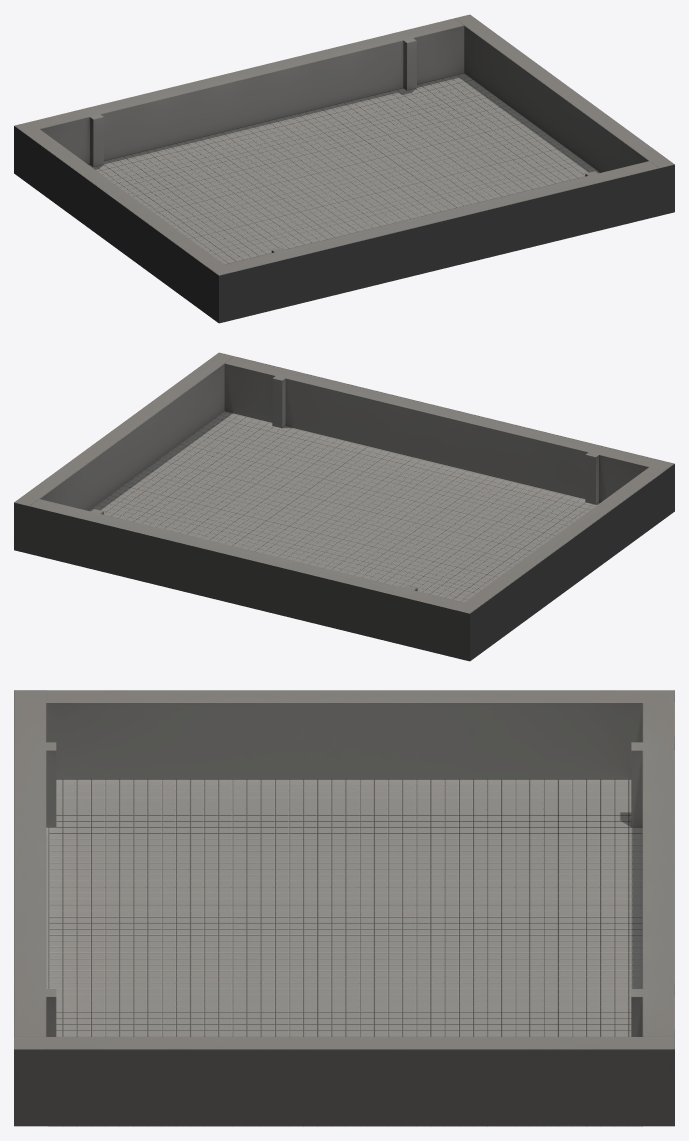
File: floor02.glb
The picture shows the model from 3 angles, top to bottom: view 1: azimuth 30°, elevation 25°; view 2: azimuth 150°, elevation 25°; view 3: azimuth 270°, elevation 25°; orthographic projection. The views are drawn at different scales.
Parts seen in each view (by area): view 1: Plane.001, Cube; view 2: Plane.001, Cube; view 3: Cube, Plane.001.
Part boxes in pixels (x1,y1,x2,y2): Plane.001: (14, 14, 674, 323); Cube: (89, 73, 599, 264); Plane.001: (14, 352, 674, 661); Cube: (89, 412, 598, 602); Cube: (49, 779, 642, 1126); Plane.001: (14, 690, 674, 1126).
Size of the model in its own units: 30.02 by 3 by 23.36.
2 materials, 2 textured.
